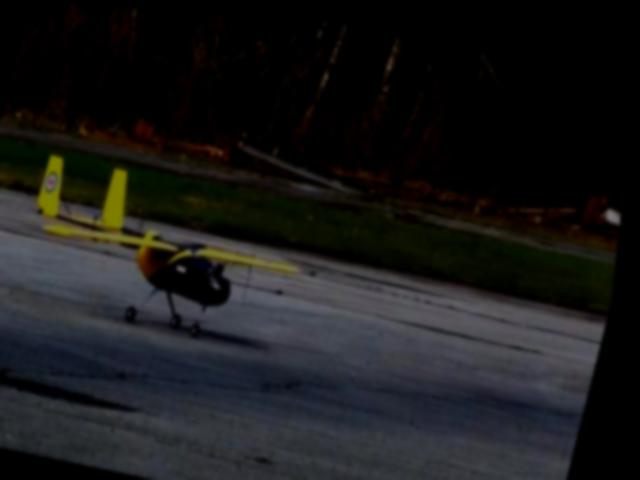iha: (9, 139, 332, 352)
